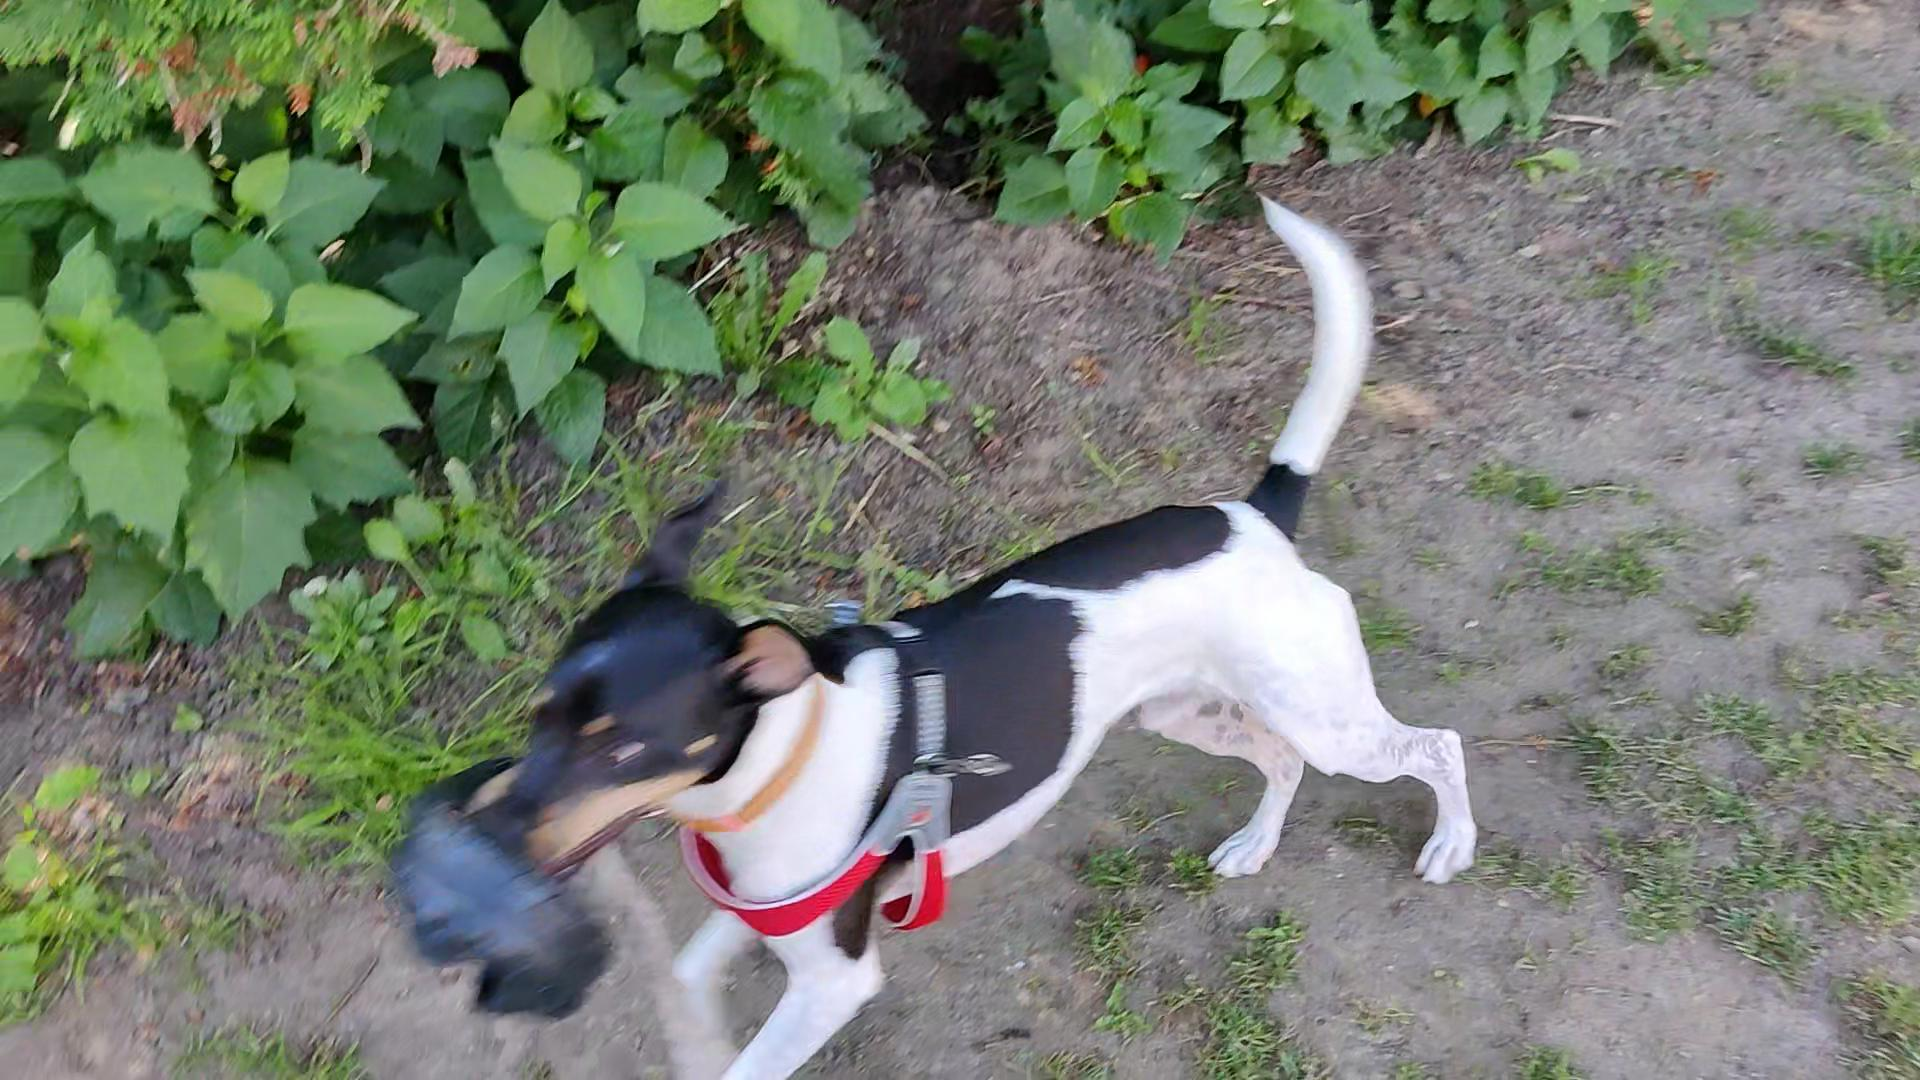Dog: (451, 179, 1503, 1079)
